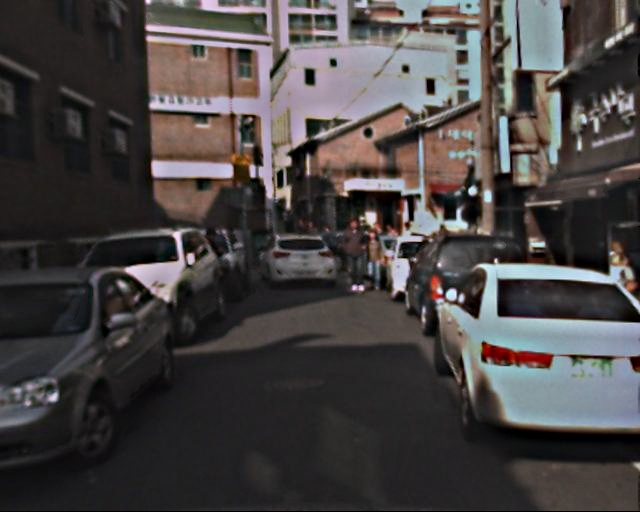person: (340, 217, 371, 293), (362, 230, 387, 292)
